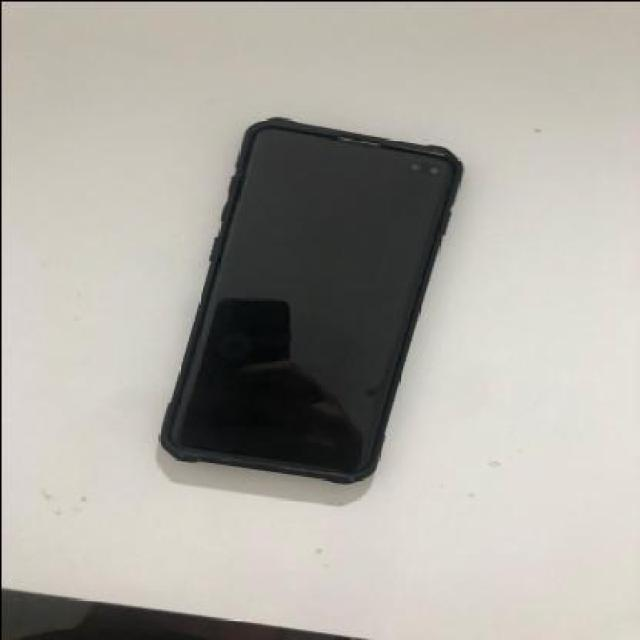phone: (163, 110, 463, 484)
